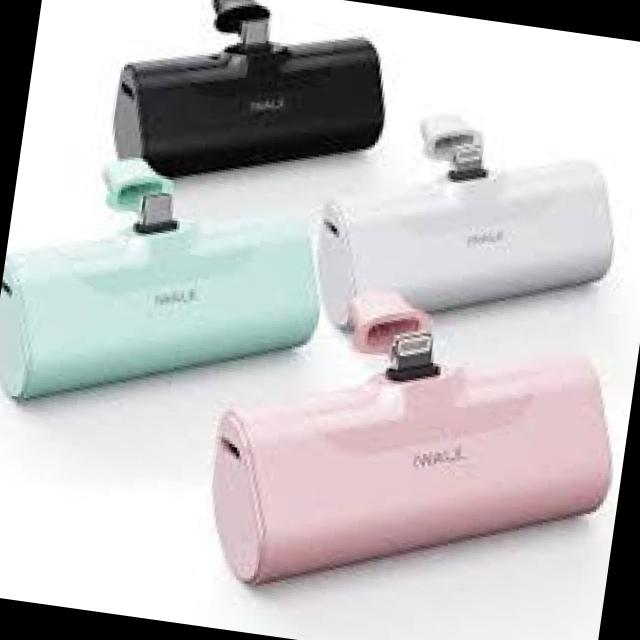portable-charger: (196, 264, 629, 634), (0, 140, 339, 442), (311, 97, 628, 367), (98, 0, 402, 216)
